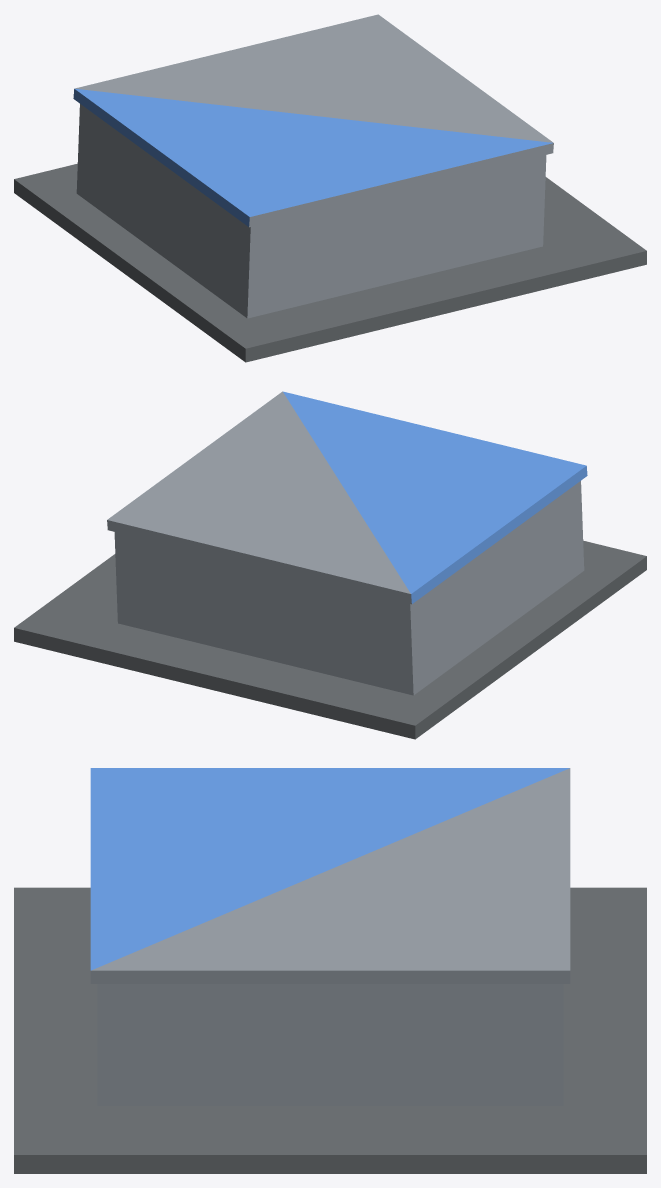
File: veyran_fortified_bunker_heavily_damaged.glb
3 views of the same model, one above another, from view 1: azimuth 30°, elevation 25°; view 2: azimuth 150°, elevation 25°; view 3: azimuth 270°, elevation 25° (orthographic). The views are drawn at different scales.
Visible parts, largest first — view 1: hull; view 2: hull; view 3: hull.
Part boxes in pixels (left/top/right/bottom): hull: left=14, top=14, right=646, bottom=362; hull: left=14, top=391, right=646, bottom=739; hull: left=14, top=768, right=646, bottom=1173.
Size of the model in its own units: 7.6 by 2.12 by 7.6.
